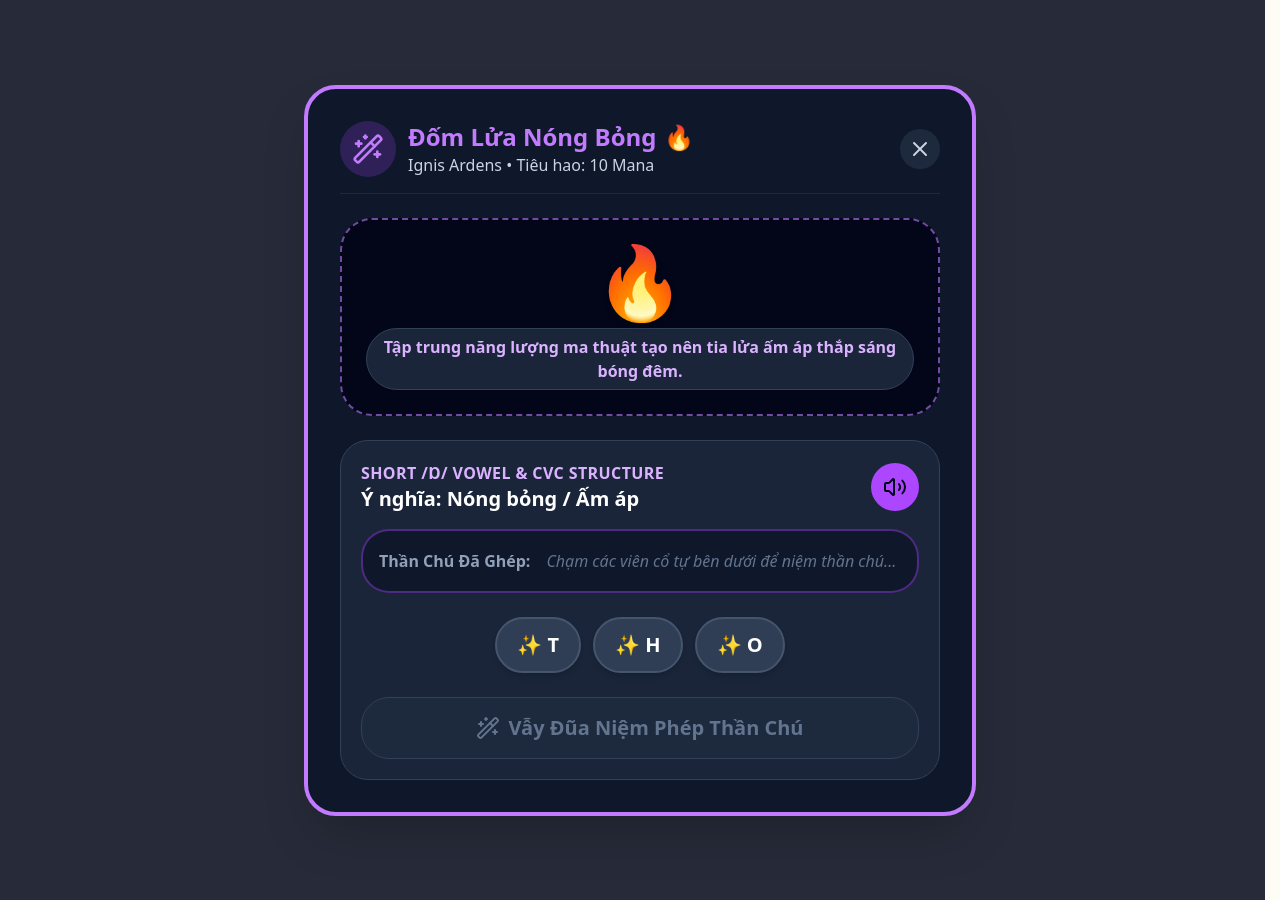
Test case: Phonics Magic Academy UI Components › WandIncantationModal › handles incorrect rune assembly with kick sound and reset
Click the button "✨ T" at (538, 644), box [495,616,581,672]
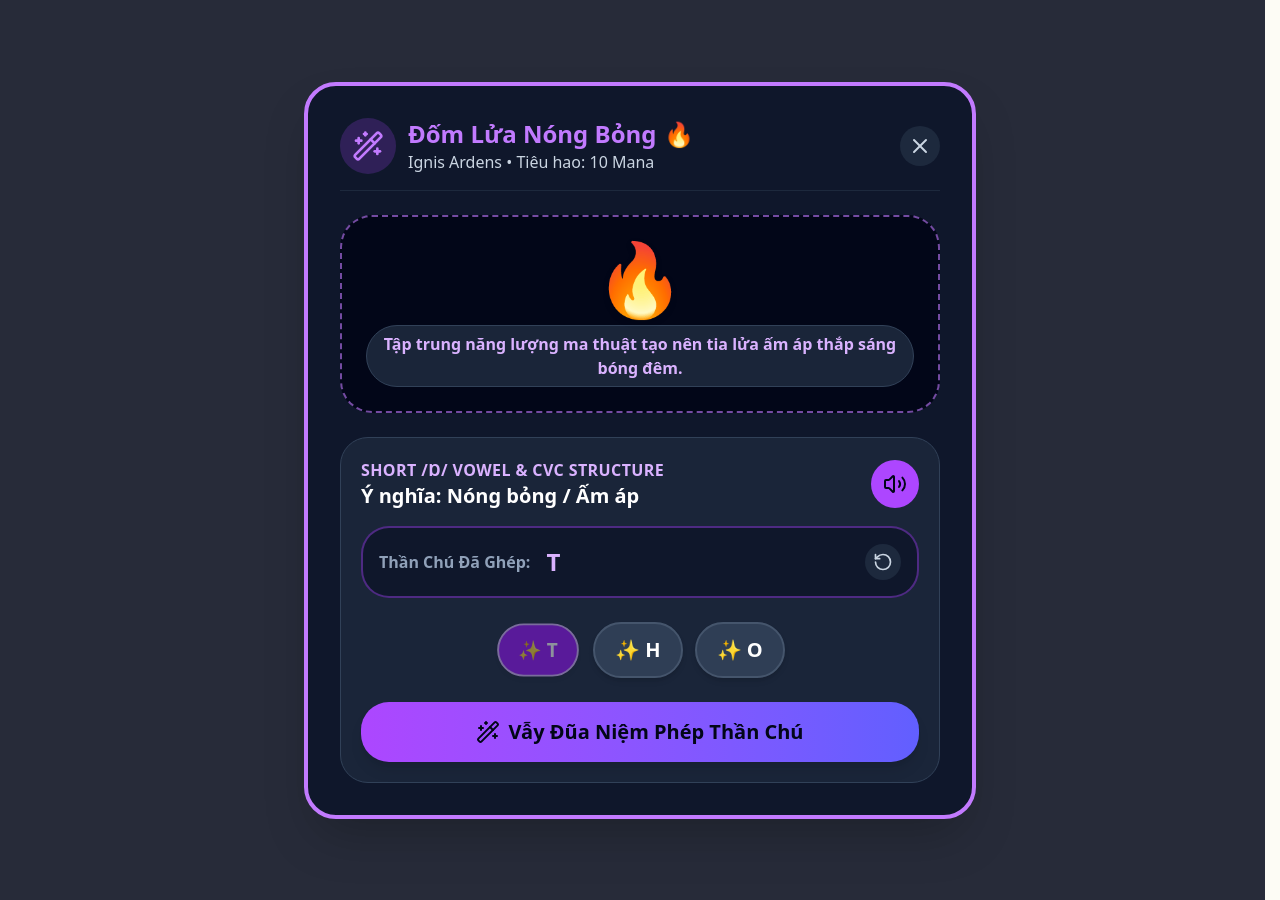
Click the button "✨ H" at (638, 650), box [593,622,683,678]
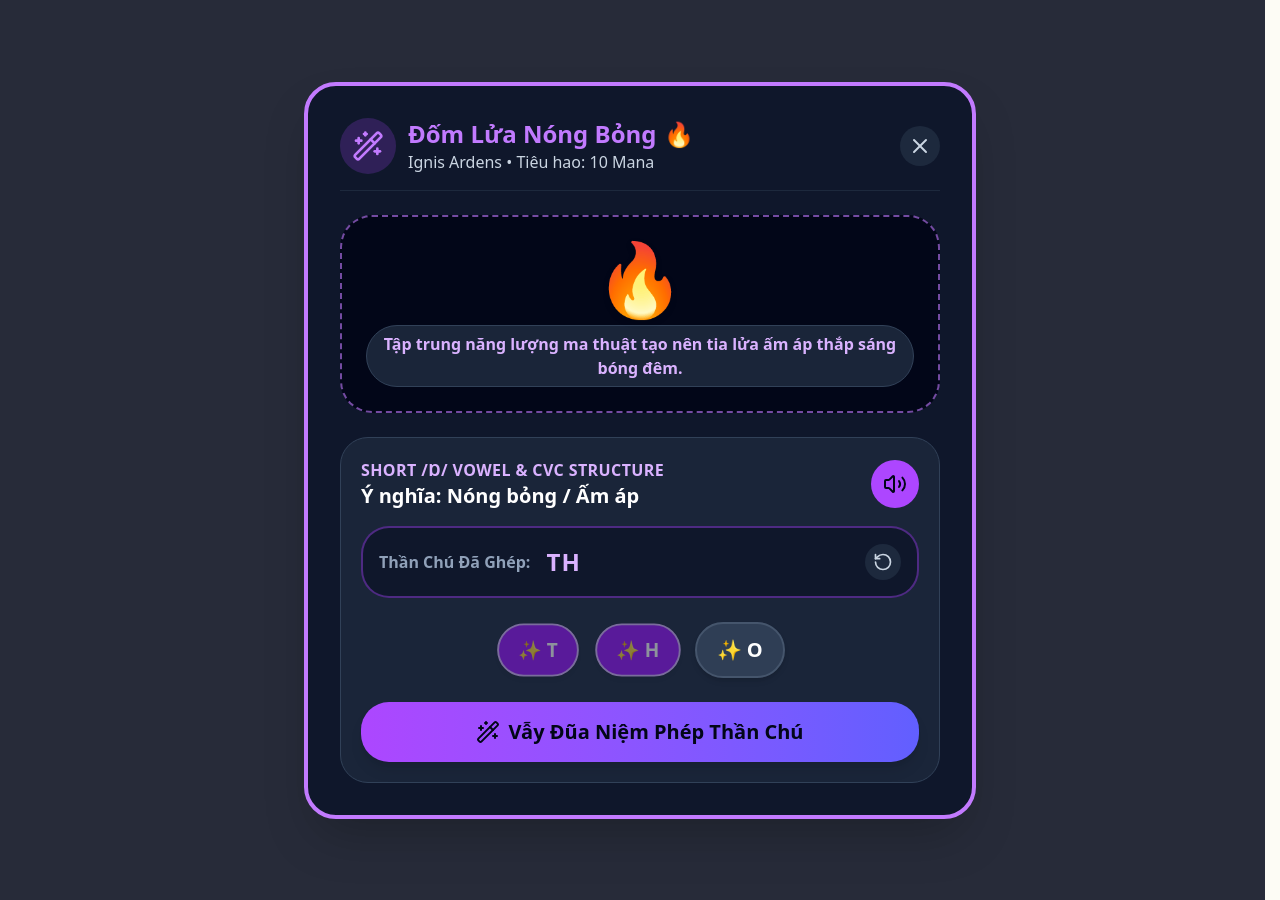
Click the button "Vẫy Đũa Niệm Phép Thần Chú" at (640, 732), box [361,702,919,762]
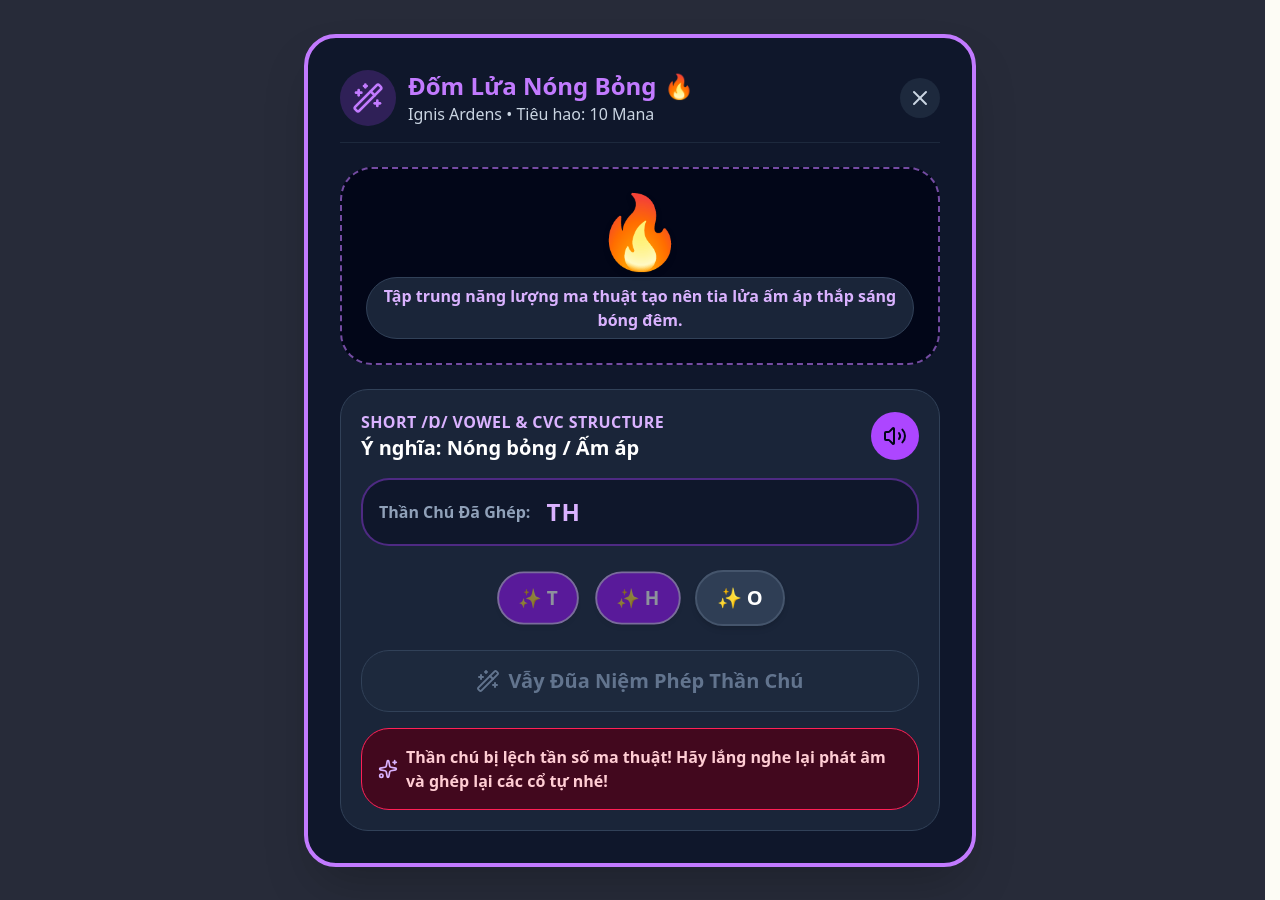
Check: the text "Thần chú bị lệch tần số ma thuật!" is shown, box [406,746,886,792]
